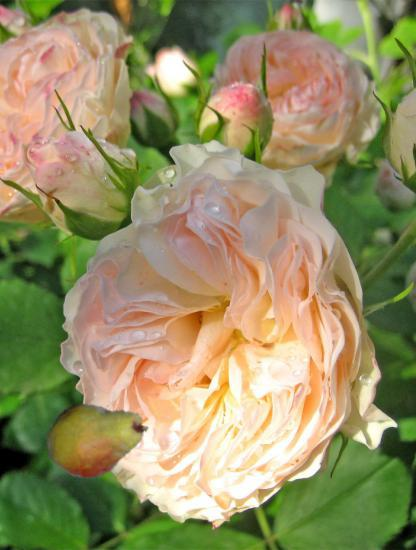Pear: (45, 385, 149, 489)
